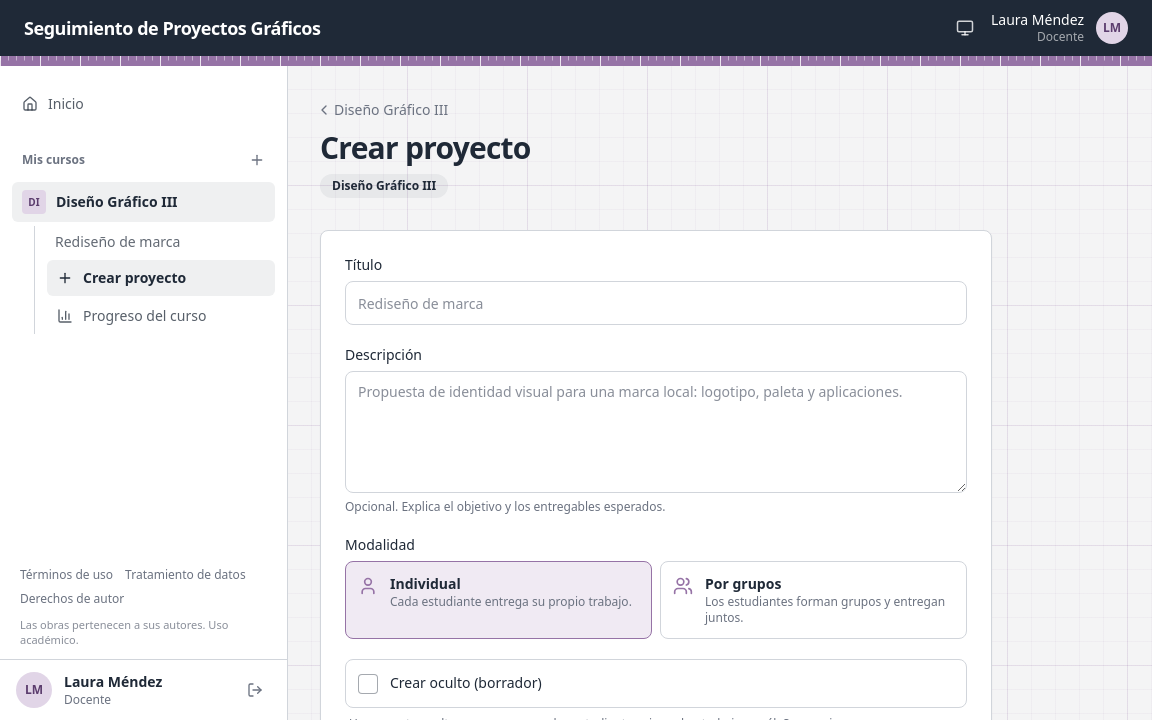
Scenario: Crear proyecto por grupos › valida que el máximo no sea menor que el mínimo
The width and height of the screenshot is (1152, 720).
Type "Campaña" into the field labelled "Título" at [656, 303], box [345,281,967,325]
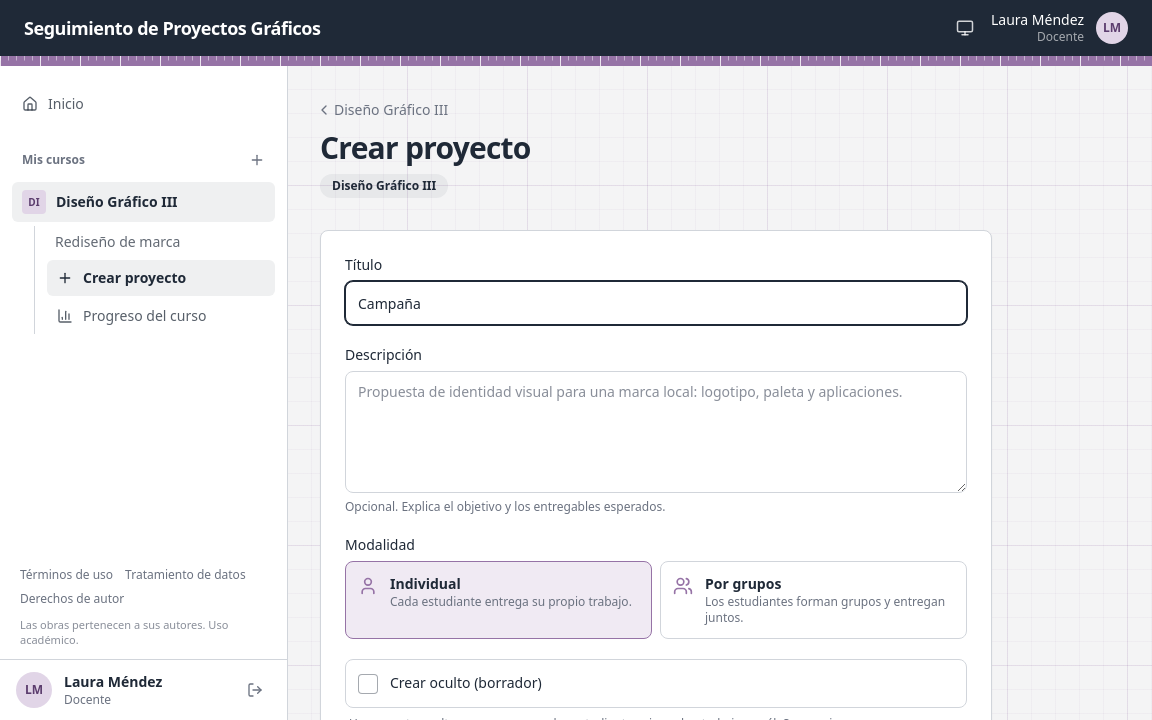
Click the text "Por grupos" at [743, 584], box [705,574,781,593]
(page scrolled)
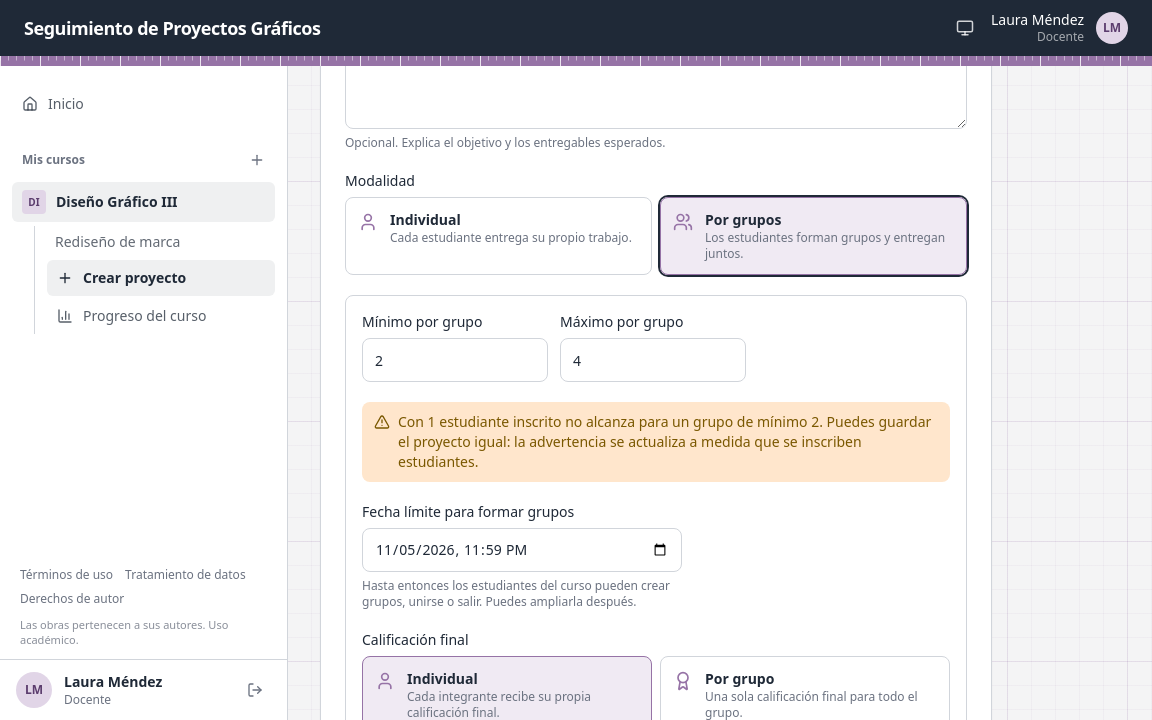
Replace the text in the number field labelled "Mínimo por grupo" with "5" at [455, 360], box [362,338,548,382]
(page scrolled)
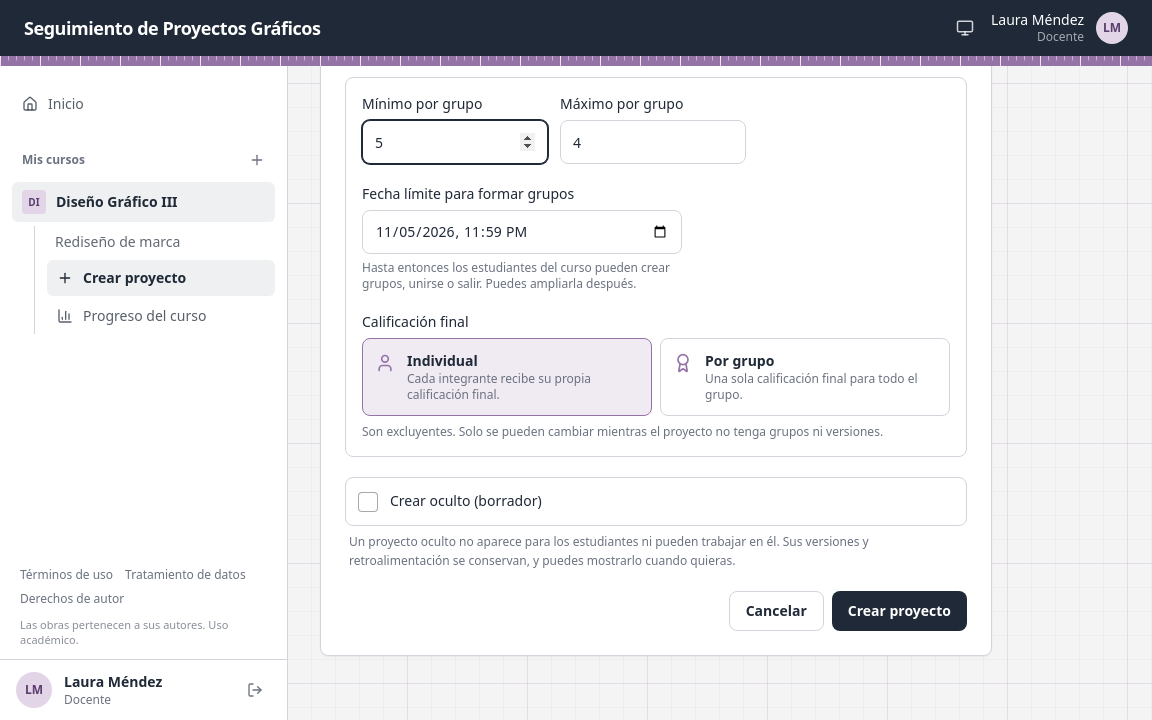
Click the button "Crear proyecto" at [899, 611], box [832,591,967,631]
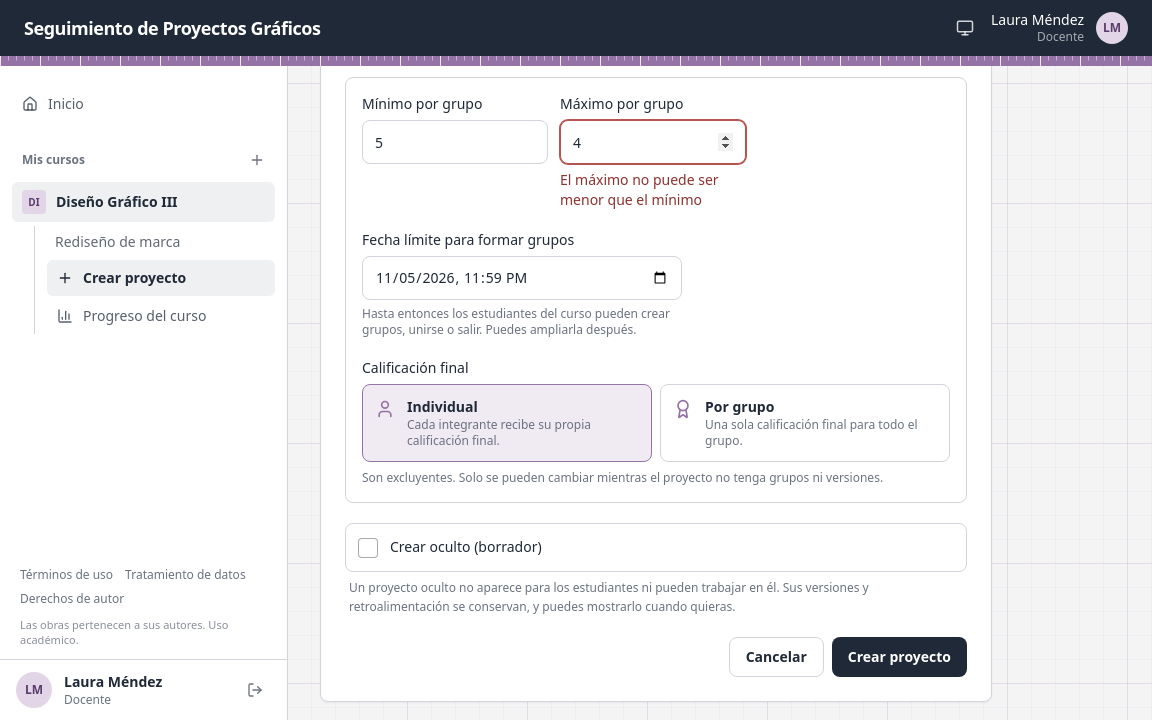
expect the text "El máximo no puede ser menor que el mínimo" is shown: met, box [560,170,746,210]
